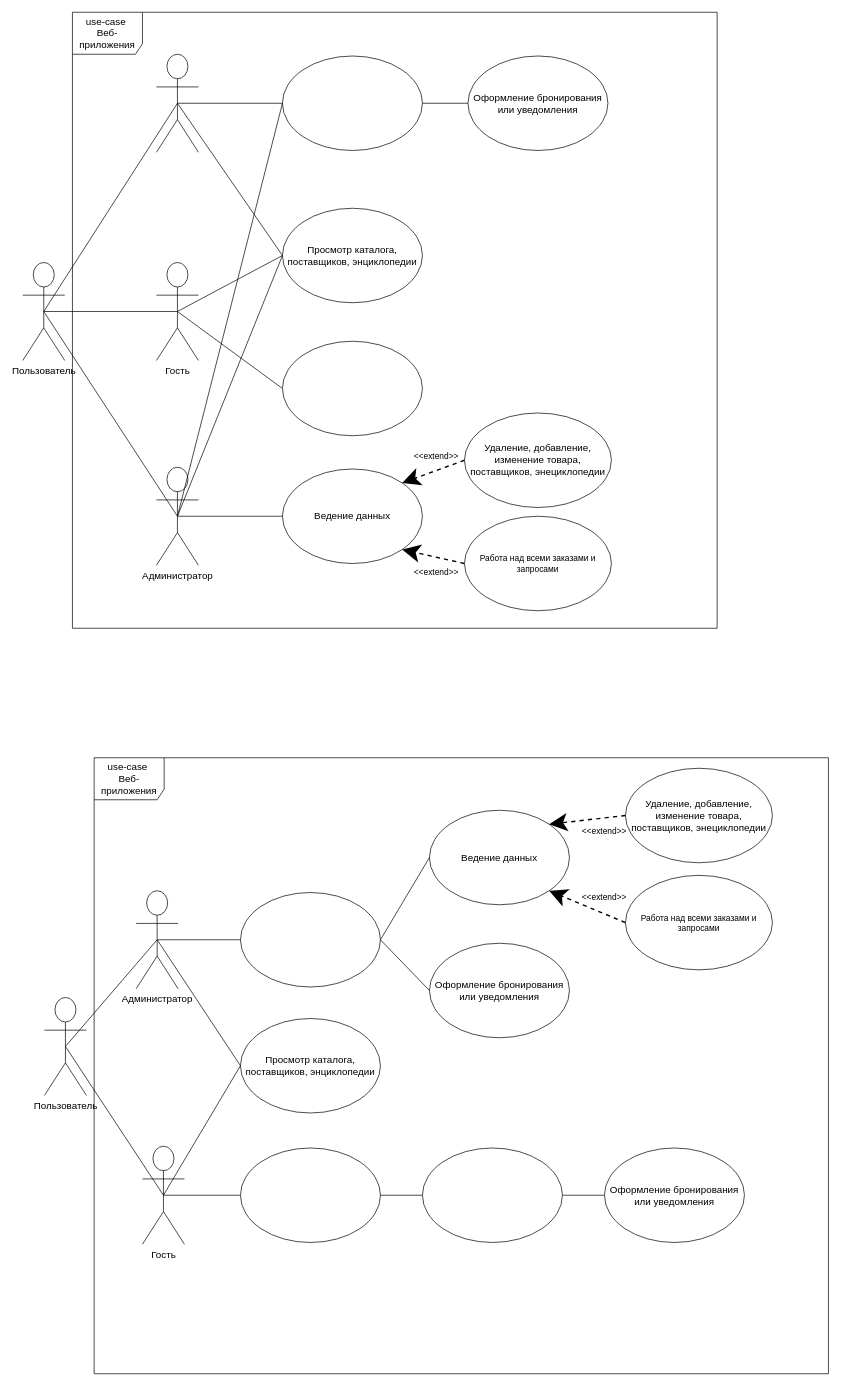
The diagram is 841 pixels wide and 1386 high, and some of its shapes have lost their labels. The box of each missing label's shape, as (x1, y1, x2, y2) in pixels:
Авторизация в роли администратора: (240, 892, 380, 987)
Авторизация в роли клиента: (422, 1147, 562, 1242)
Авторизация на сайте: (282, 55, 422, 150)
Клиент: (156, 54, 198, 152)
Регистрация: (240, 1147, 380, 1242)
Регистрация на сайте: (282, 341, 422, 436)
